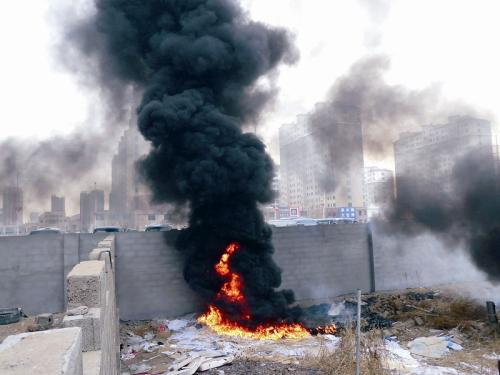smoke: (93, 1, 302, 316)
